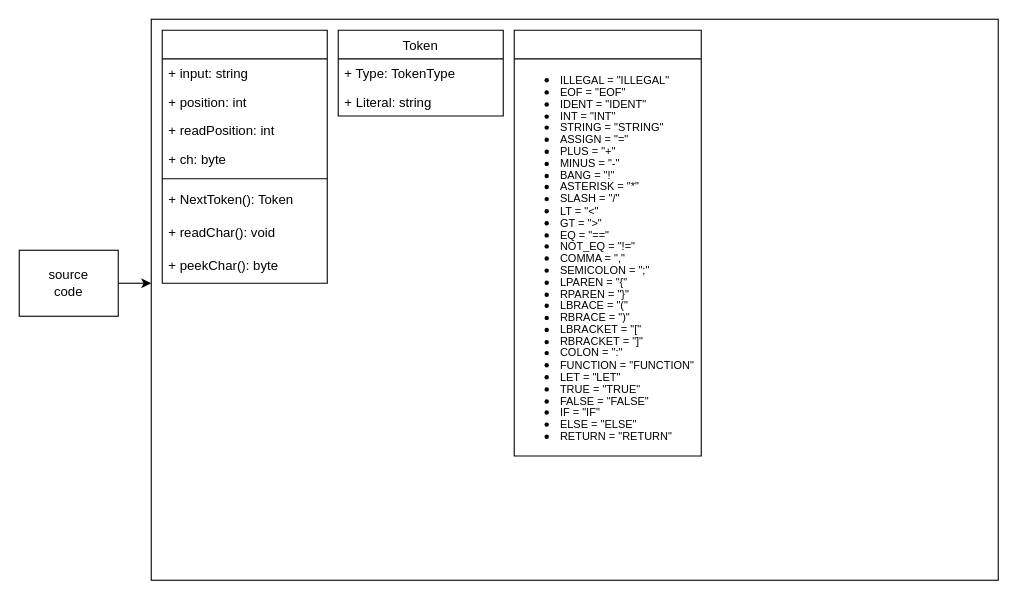
Some shapes in this 1018 by 600 pixel diagram are drawn without their labels. Here are the shapes that lost their labels. From the top down, the box of each, then its label:
(161, 29, 327, 283): Lexer
(513, 29, 701, 456): TokenType
